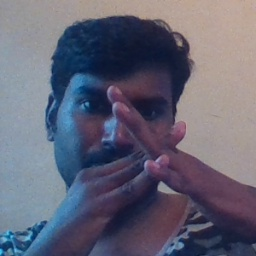W: (84, 79, 220, 226)
